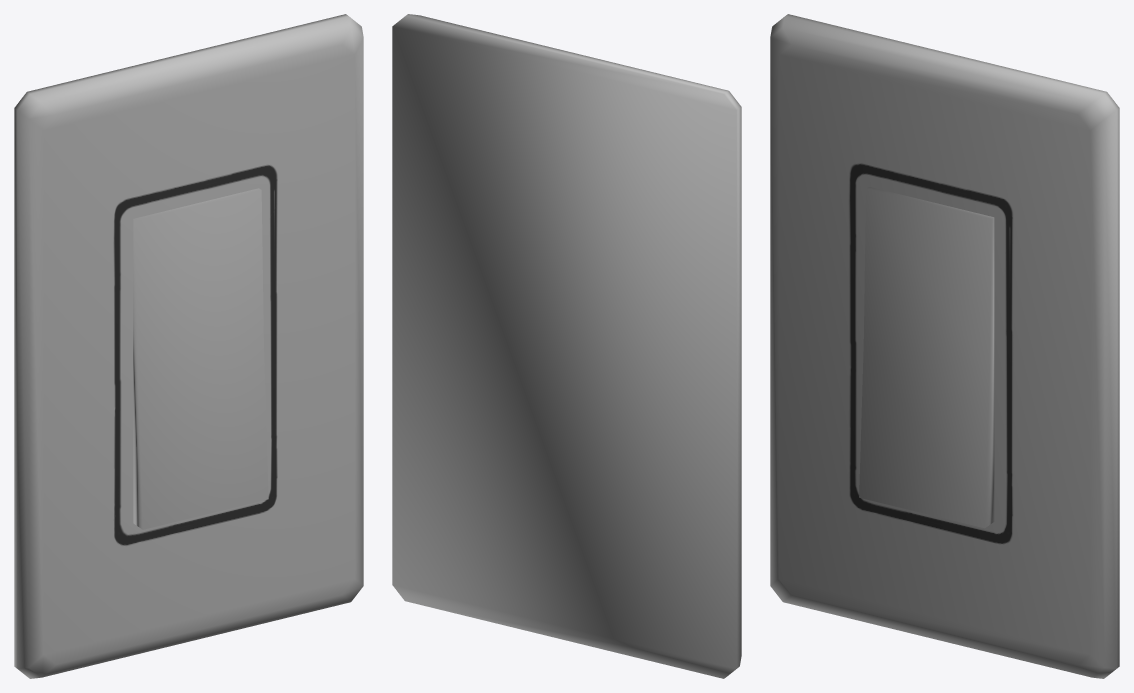
3 renders of one model, left to right at view 1: azimuth 30°, elevation 25°; view 2: azimuth 150°, elevation 25°; view 3: azimuth 330°, elevation 25°, orthographic.
Visible parts, largest first — view 1: LightPlate, Switch_Left; view 2: LightPlate; view 3: LightPlate, Switch_Left.
Part boxes in pixels (bbox=[...]): LightPlate: bbox=[14, 14, 363, 678]; Switch_Left: bbox=[133, 188, 268, 529]; LightPlate: bbox=[392, 14, 741, 678]; LightPlate: bbox=[770, 14, 1119, 678]; Switch_Left: bbox=[859, 187, 994, 528].
Size of the model in its own units: 22.43 by 36.41 by 2.54.
Materials: 1 (1 with a texture image).
